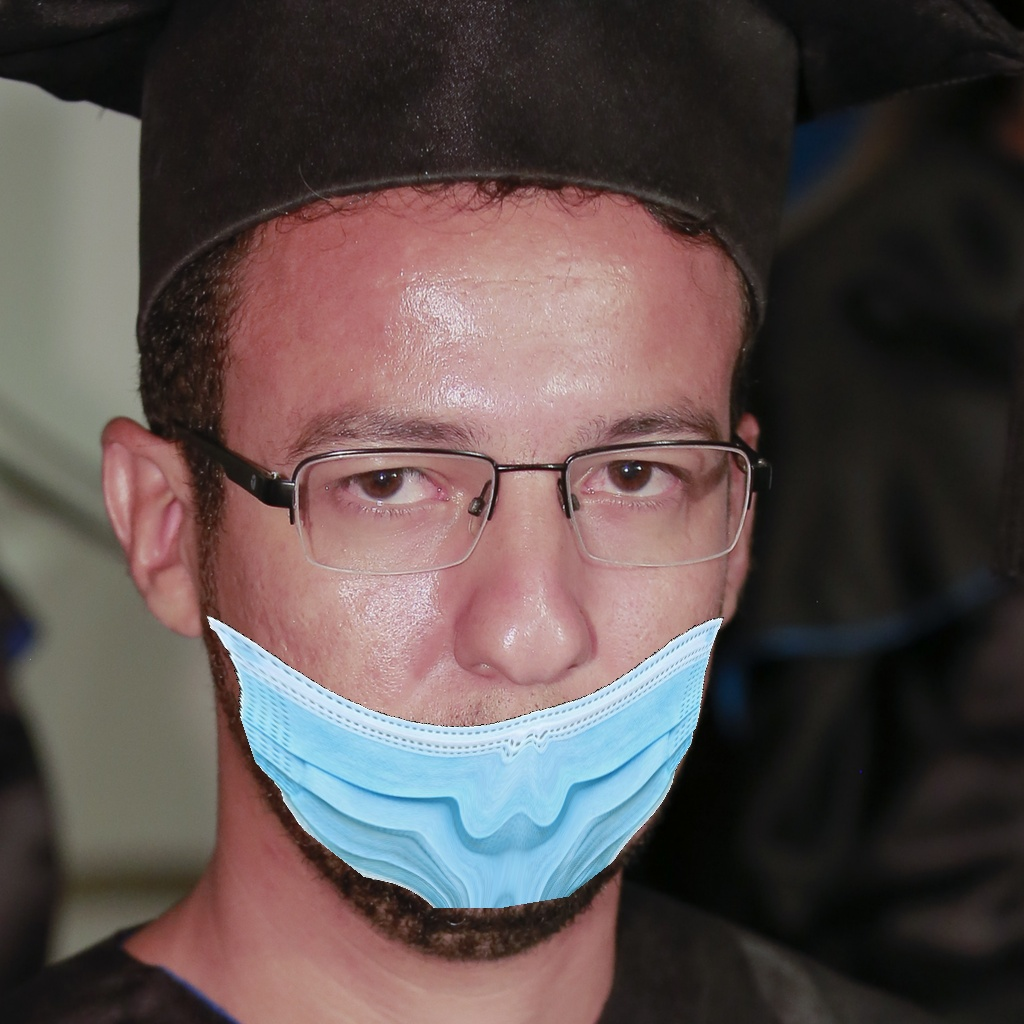mascarilla_mal_puesta: (173, 355, 808, 963)
